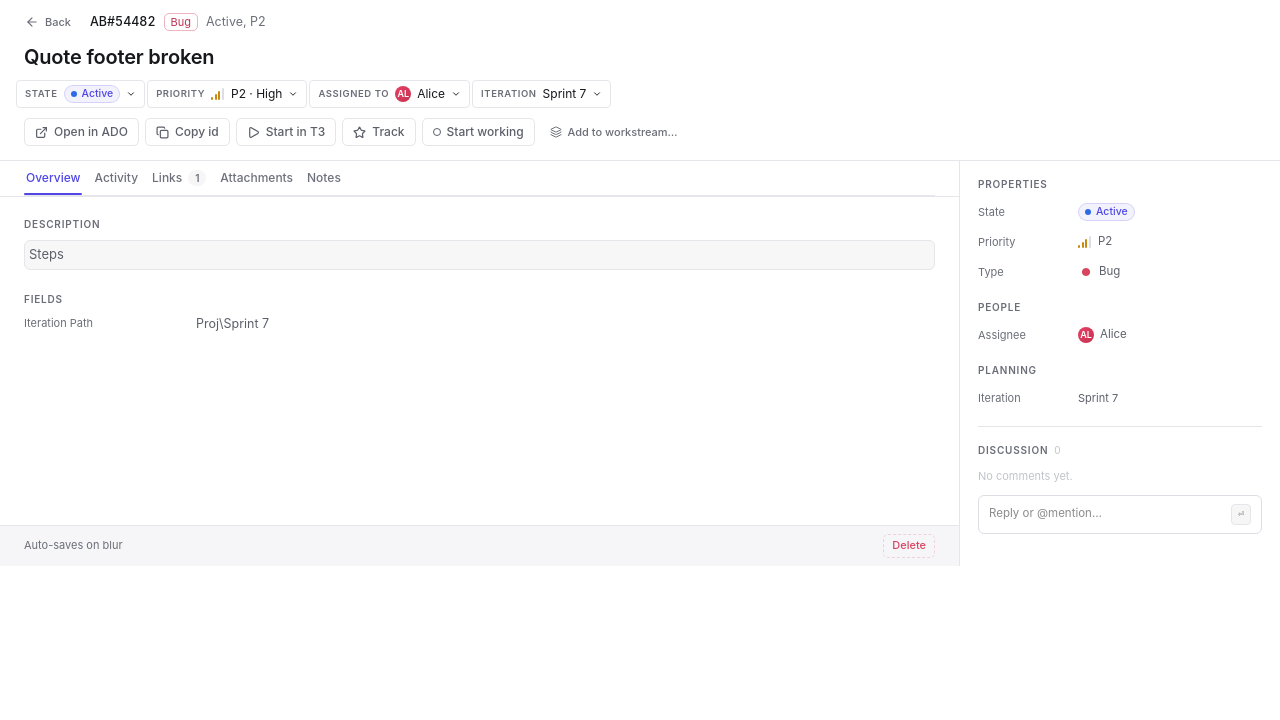
Scenario: WorkItemDetailView › Links ignores a plain #NNN: only AB#<id> links a pull request
Click the tab "Links 1": {"x": 179, "y": 178} [150,161,208,195]
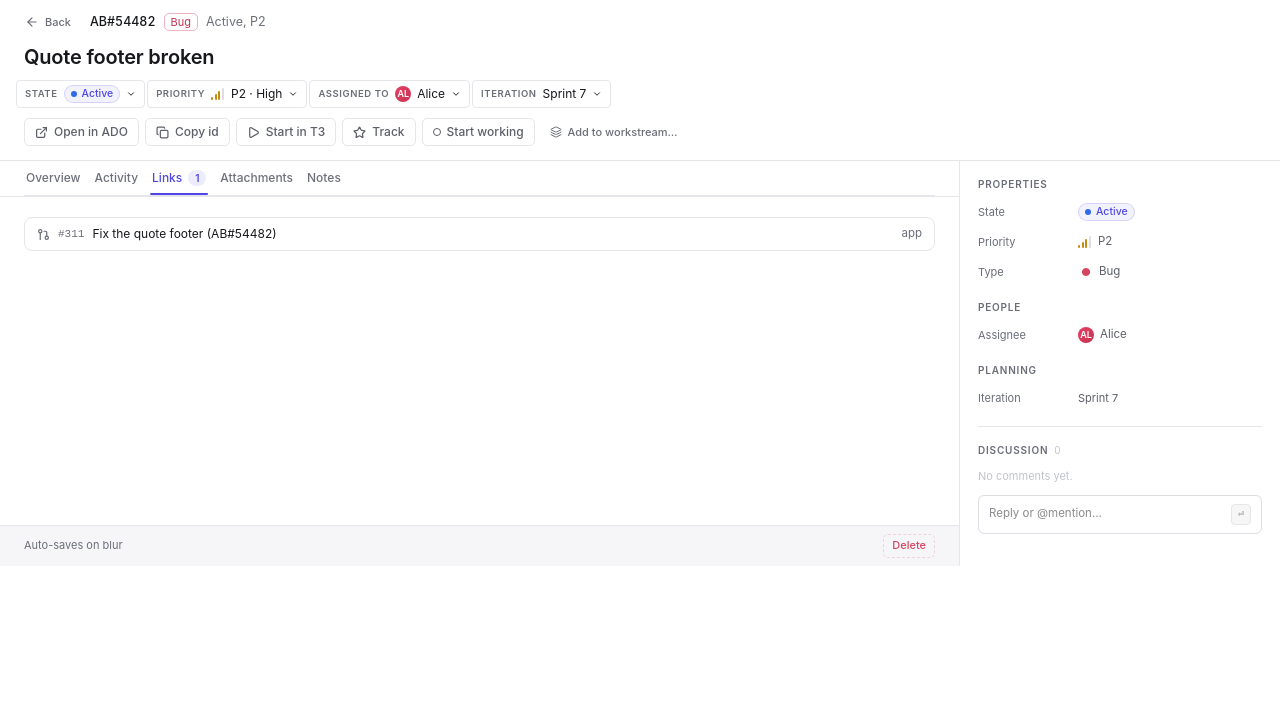
Now the button "#311 Fix the quote footer (AB#54482) app" is shown, box [25,218,934,250]
